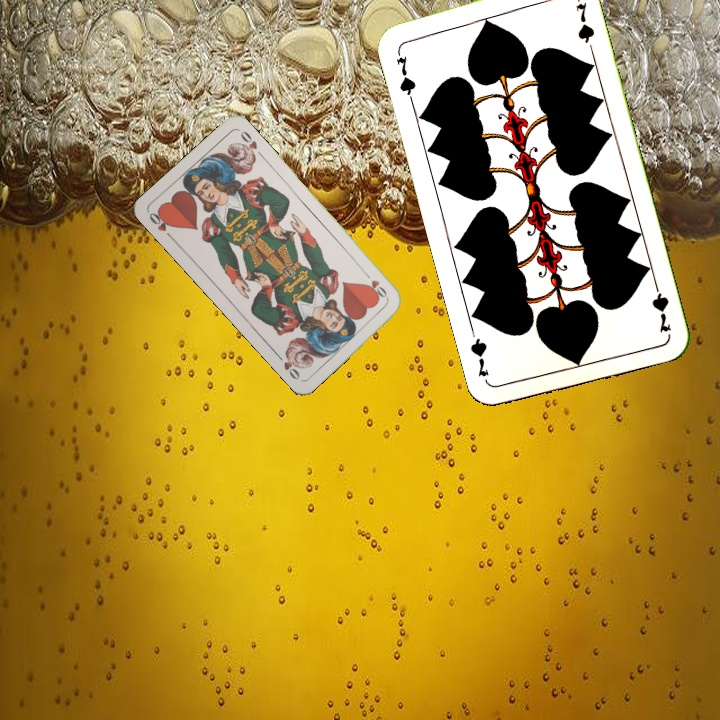G7: (647, 276, 674, 335), (392, 45, 418, 103)
HO: (145, 207, 176, 242), (360, 268, 391, 302)
